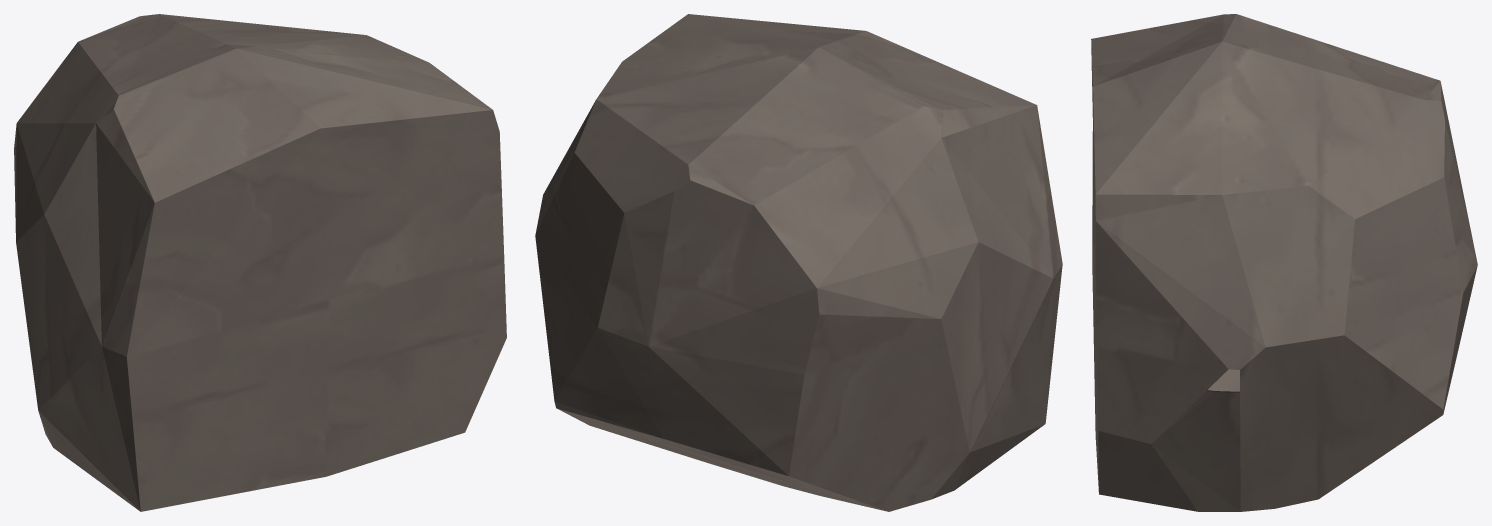
The model's file is rock-05.obj.
3 views of the same model, side by side, from view 1: azimuth 30°, elevation 25°; view 2: azimuth 150°, elevation 25°; view 3: azimuth 270°, elevation 25° (orthographic). The views are drawn at different scales.
Parts seen in each view (by area): view 1: rock-05_Circle.034; view 2: rock-05_Circle.034; view 3: rock-05_Circle.034.
Part boxes in pixels (x1=…): rock-05_Circle.034: x1=14, y1=14, x2=506, y2=511; rock-05_Circle.034: x1=535, y1=14, x2=1062, y2=511; rock-05_Circle.034: x1=1091, y1=14, x2=1477, y2=511.
Bounding box in the file's own units: 3.93 × 3.64 × 3.06.
